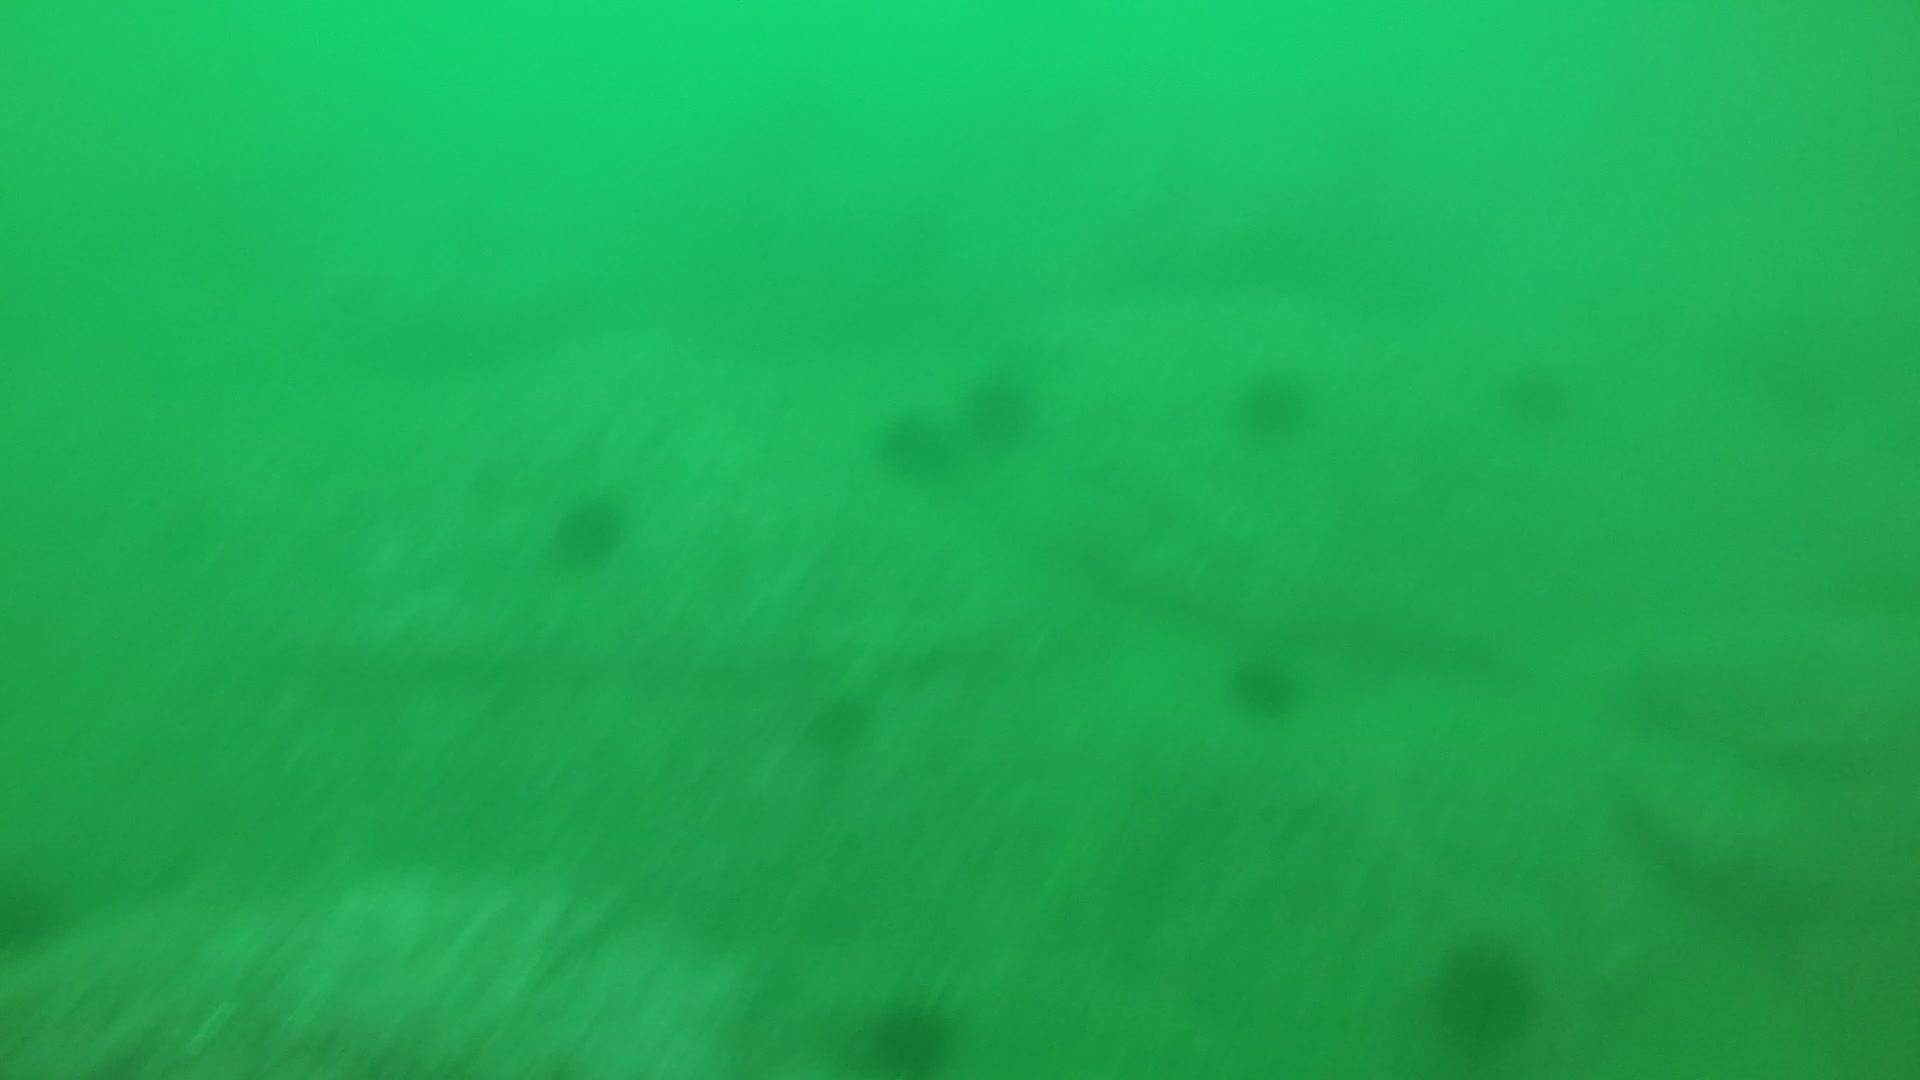echinus: (1422, 932, 1545, 1058), (857, 989, 963, 1073), (1230, 357, 1319, 442), (0, 860, 73, 957), (547, 487, 632, 568), (959, 363, 1040, 446), (1222, 644, 1305, 720), (872, 402, 956, 477), (1495, 353, 1577, 430)
